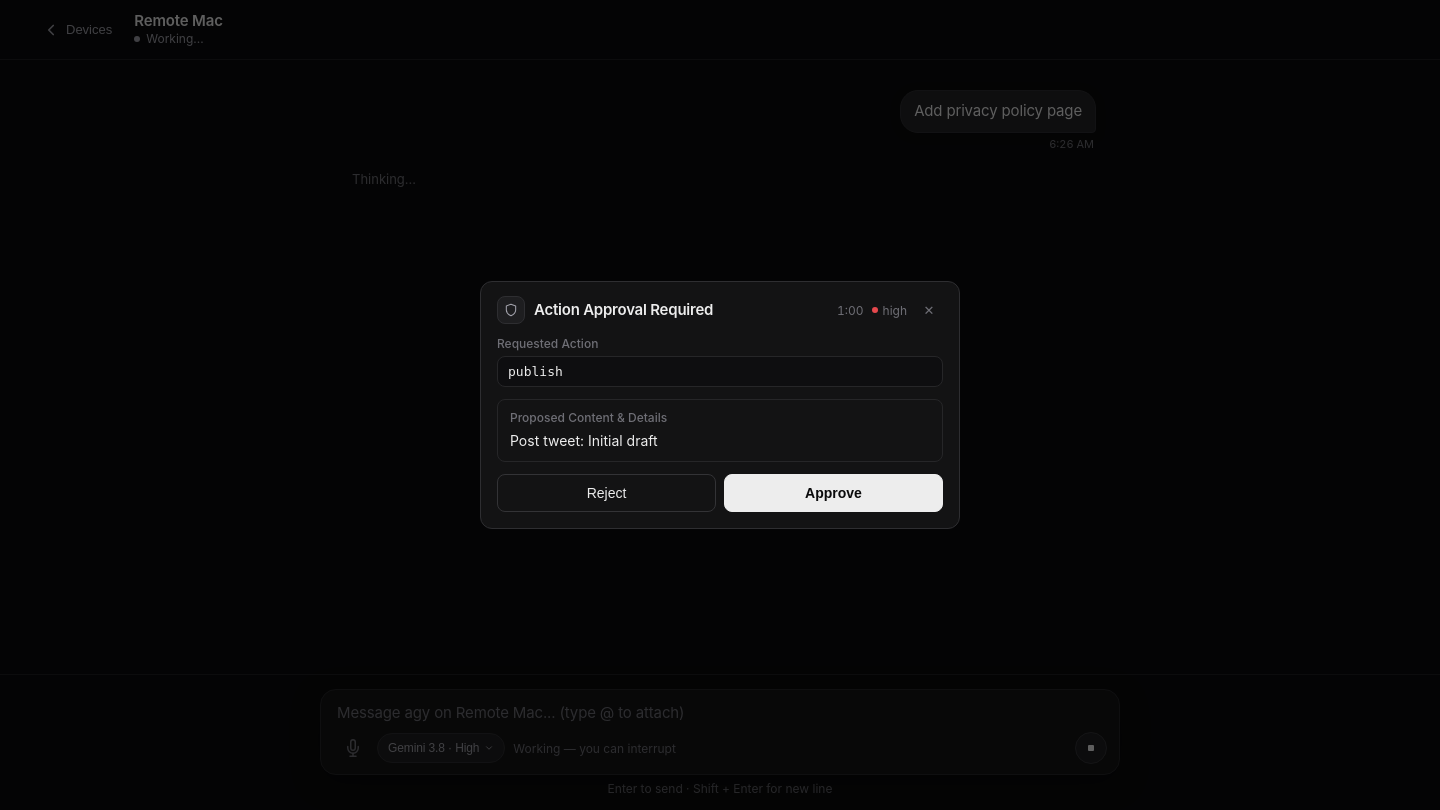
it: Web App Workflow › resets rejection state when a new approval is requested after previous rejection
Click the button with test id "reject-approval-btn". click: (606, 493)
box: [497,474,716,512]
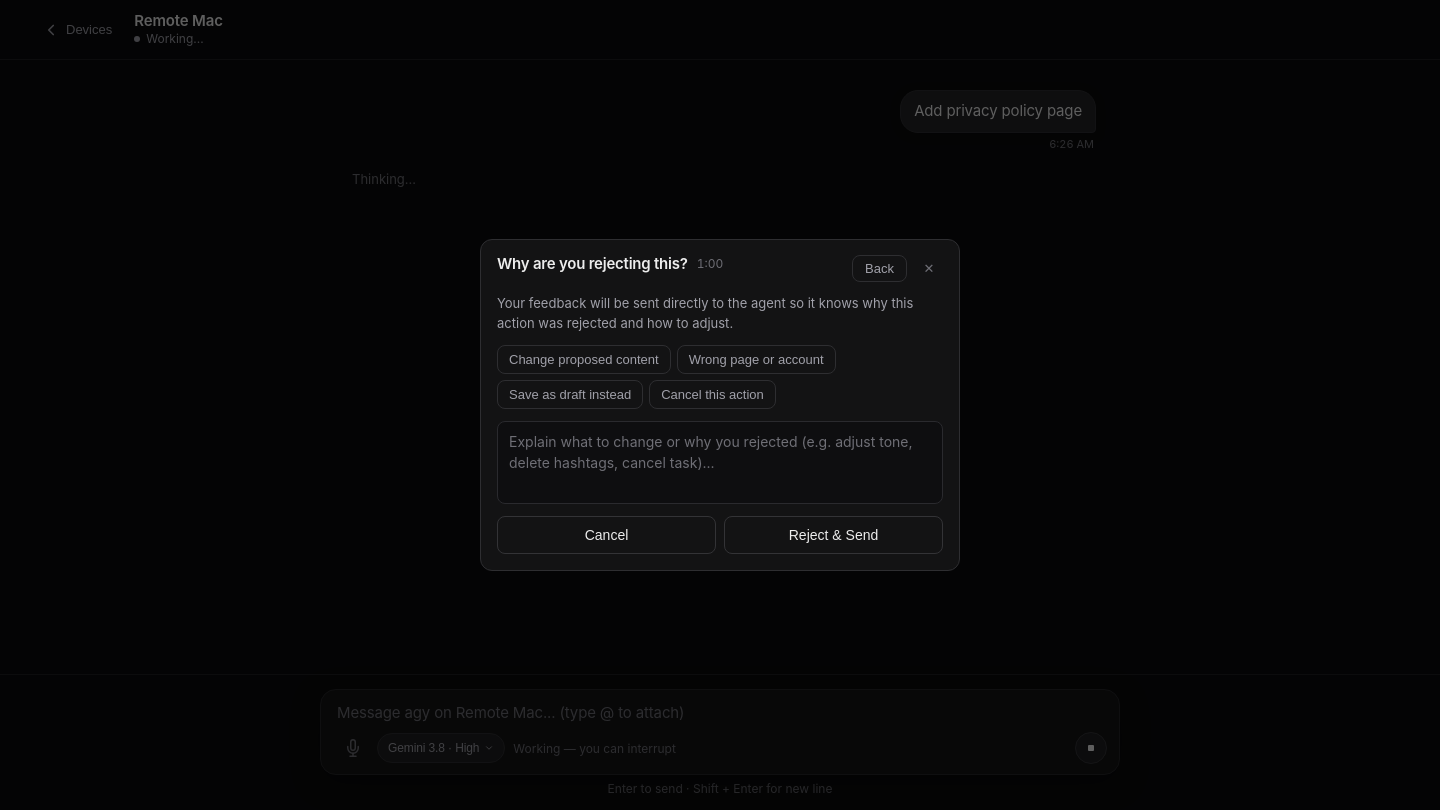
Expected: the element with test id "rejection-form" is shown, [497,254,943,554]
Replace the text in the text box with test id "rejection-reason-input" with "Put link in first reply". click: (720, 462)
box: [497,421,943,504]
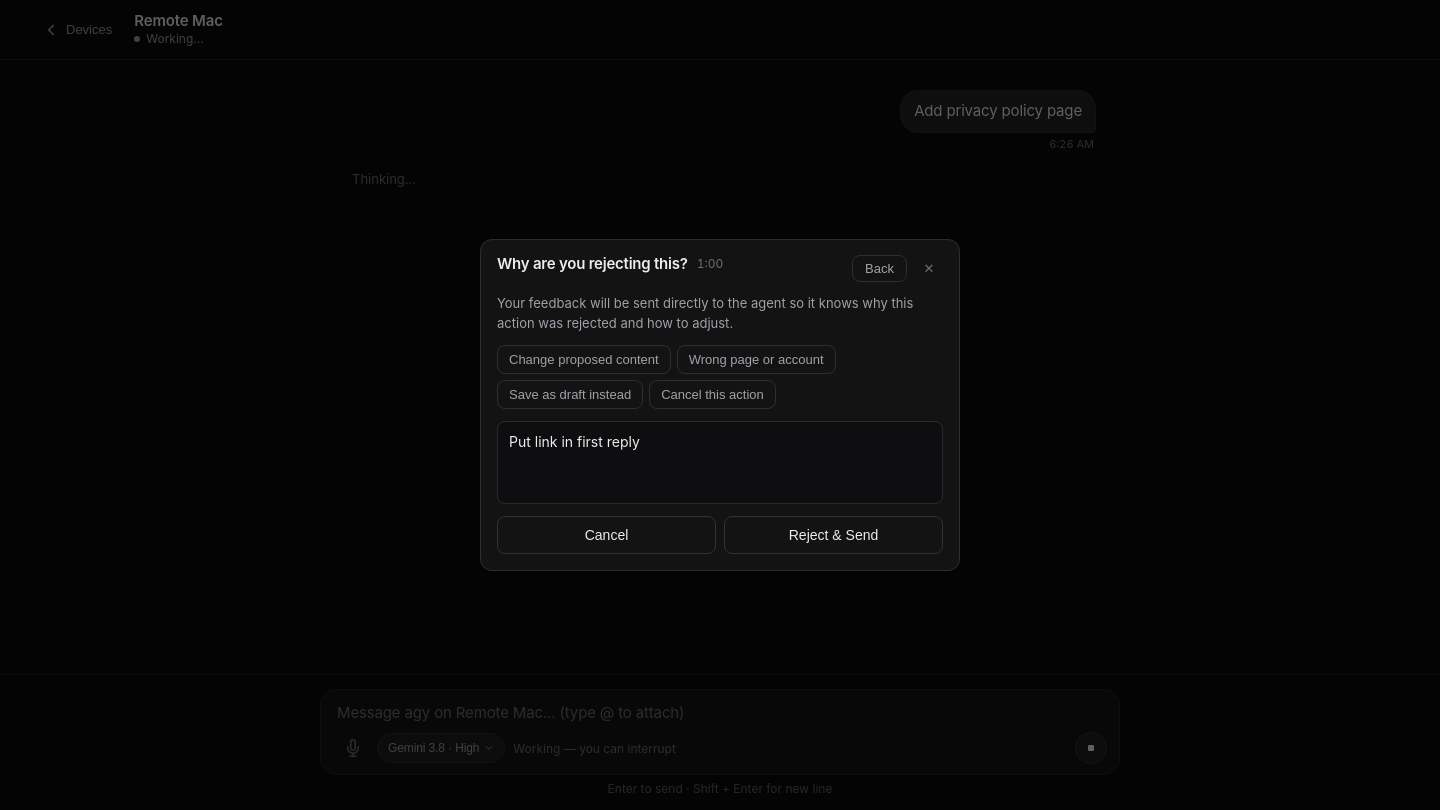
Click the button with test id "confirm-reject-btn". click: (834, 535)
box: [724,516,943,554]
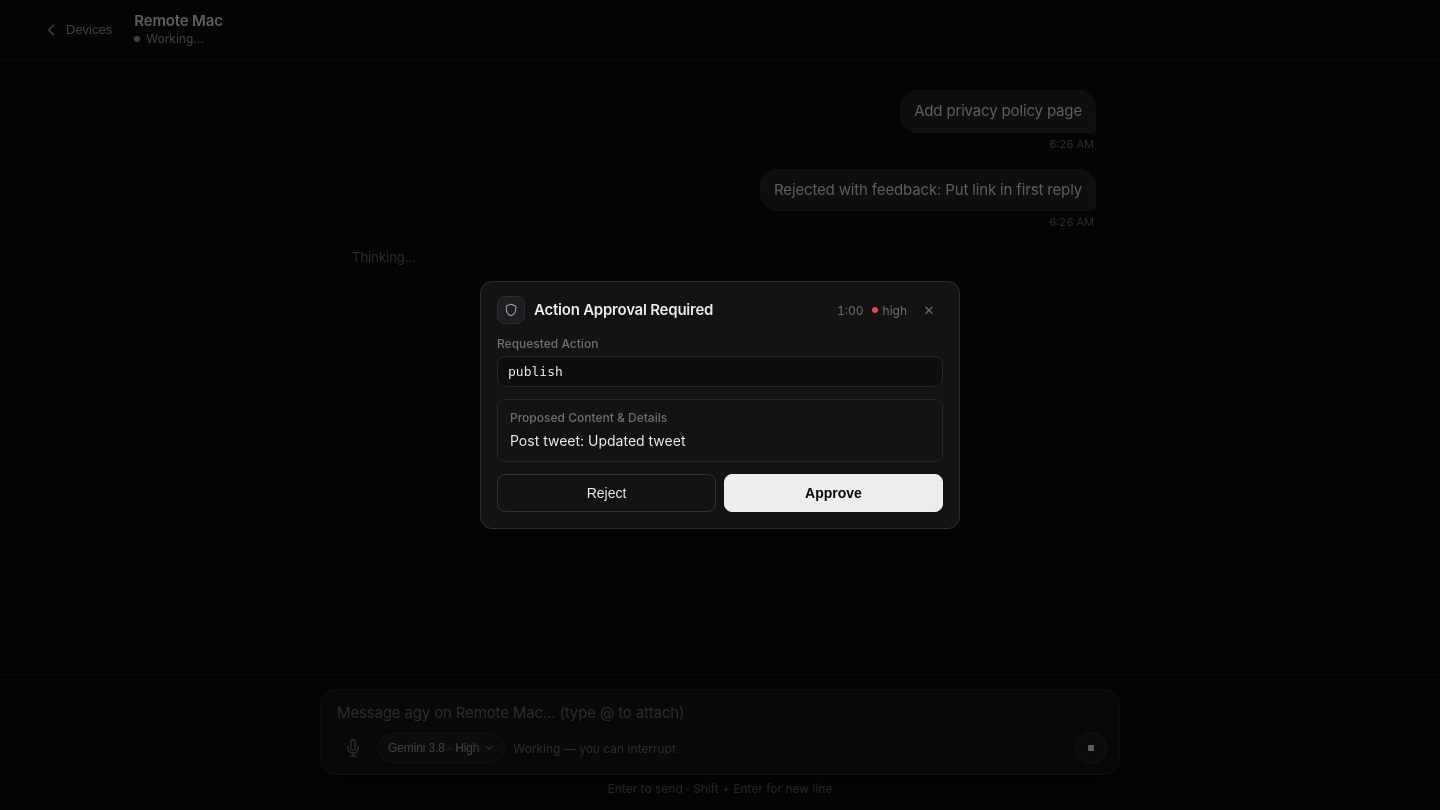
Expected: the heading "Action Approval Required" is shown, [534,300,713,320]
Expected: the element with test id "rejection-form" is gone
Expected: the button with test id "approve-approval-btn" is shown, [724,474,943,512]
Click the button with test id "reject-approval-btn". click: (606, 493)
box: [497,474,716,512]
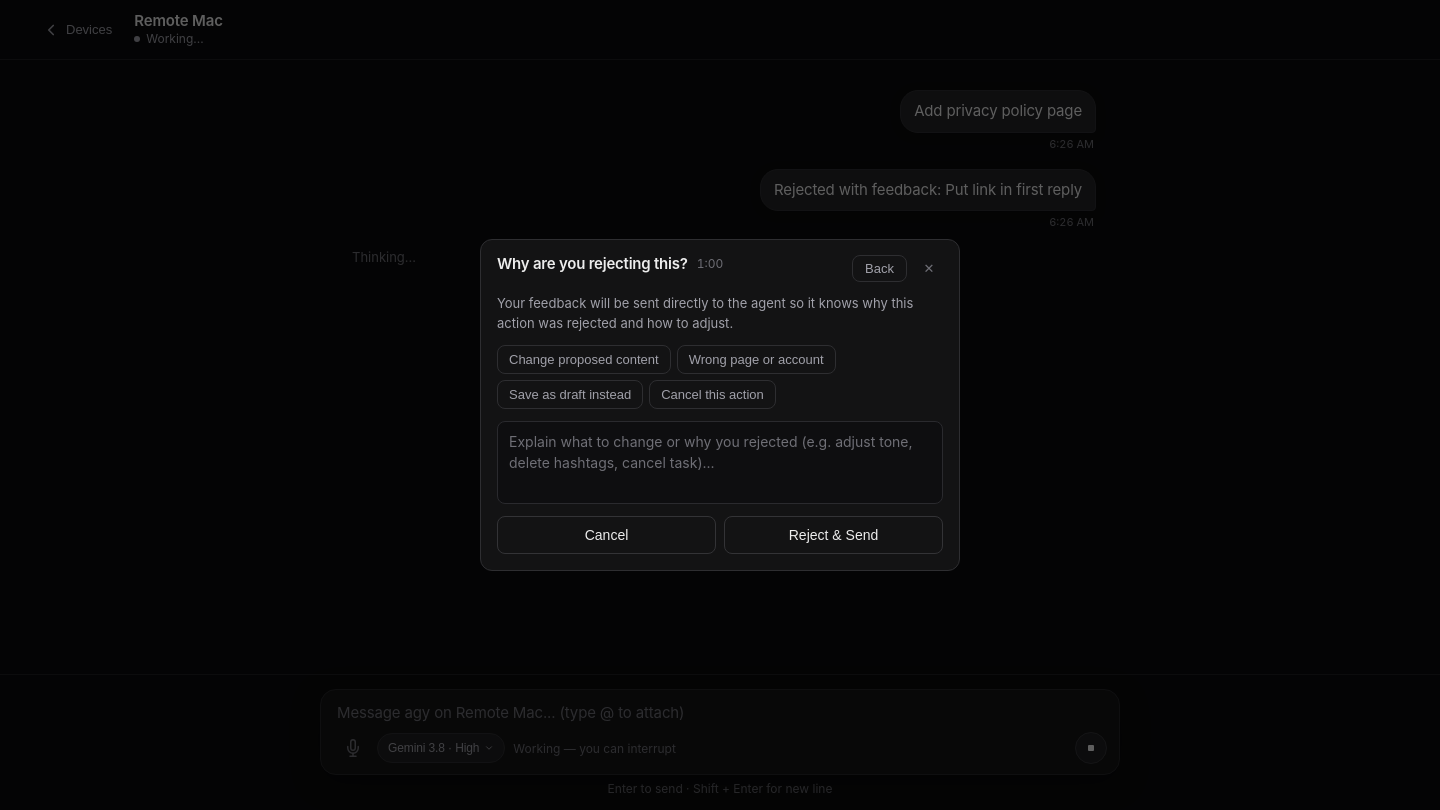
Expected: the element with test id "rejection-form" is shown, [497,254,943,554]
Expected: the text box with test id "rejection-reason-input" is empty, [497,421,943,504]
